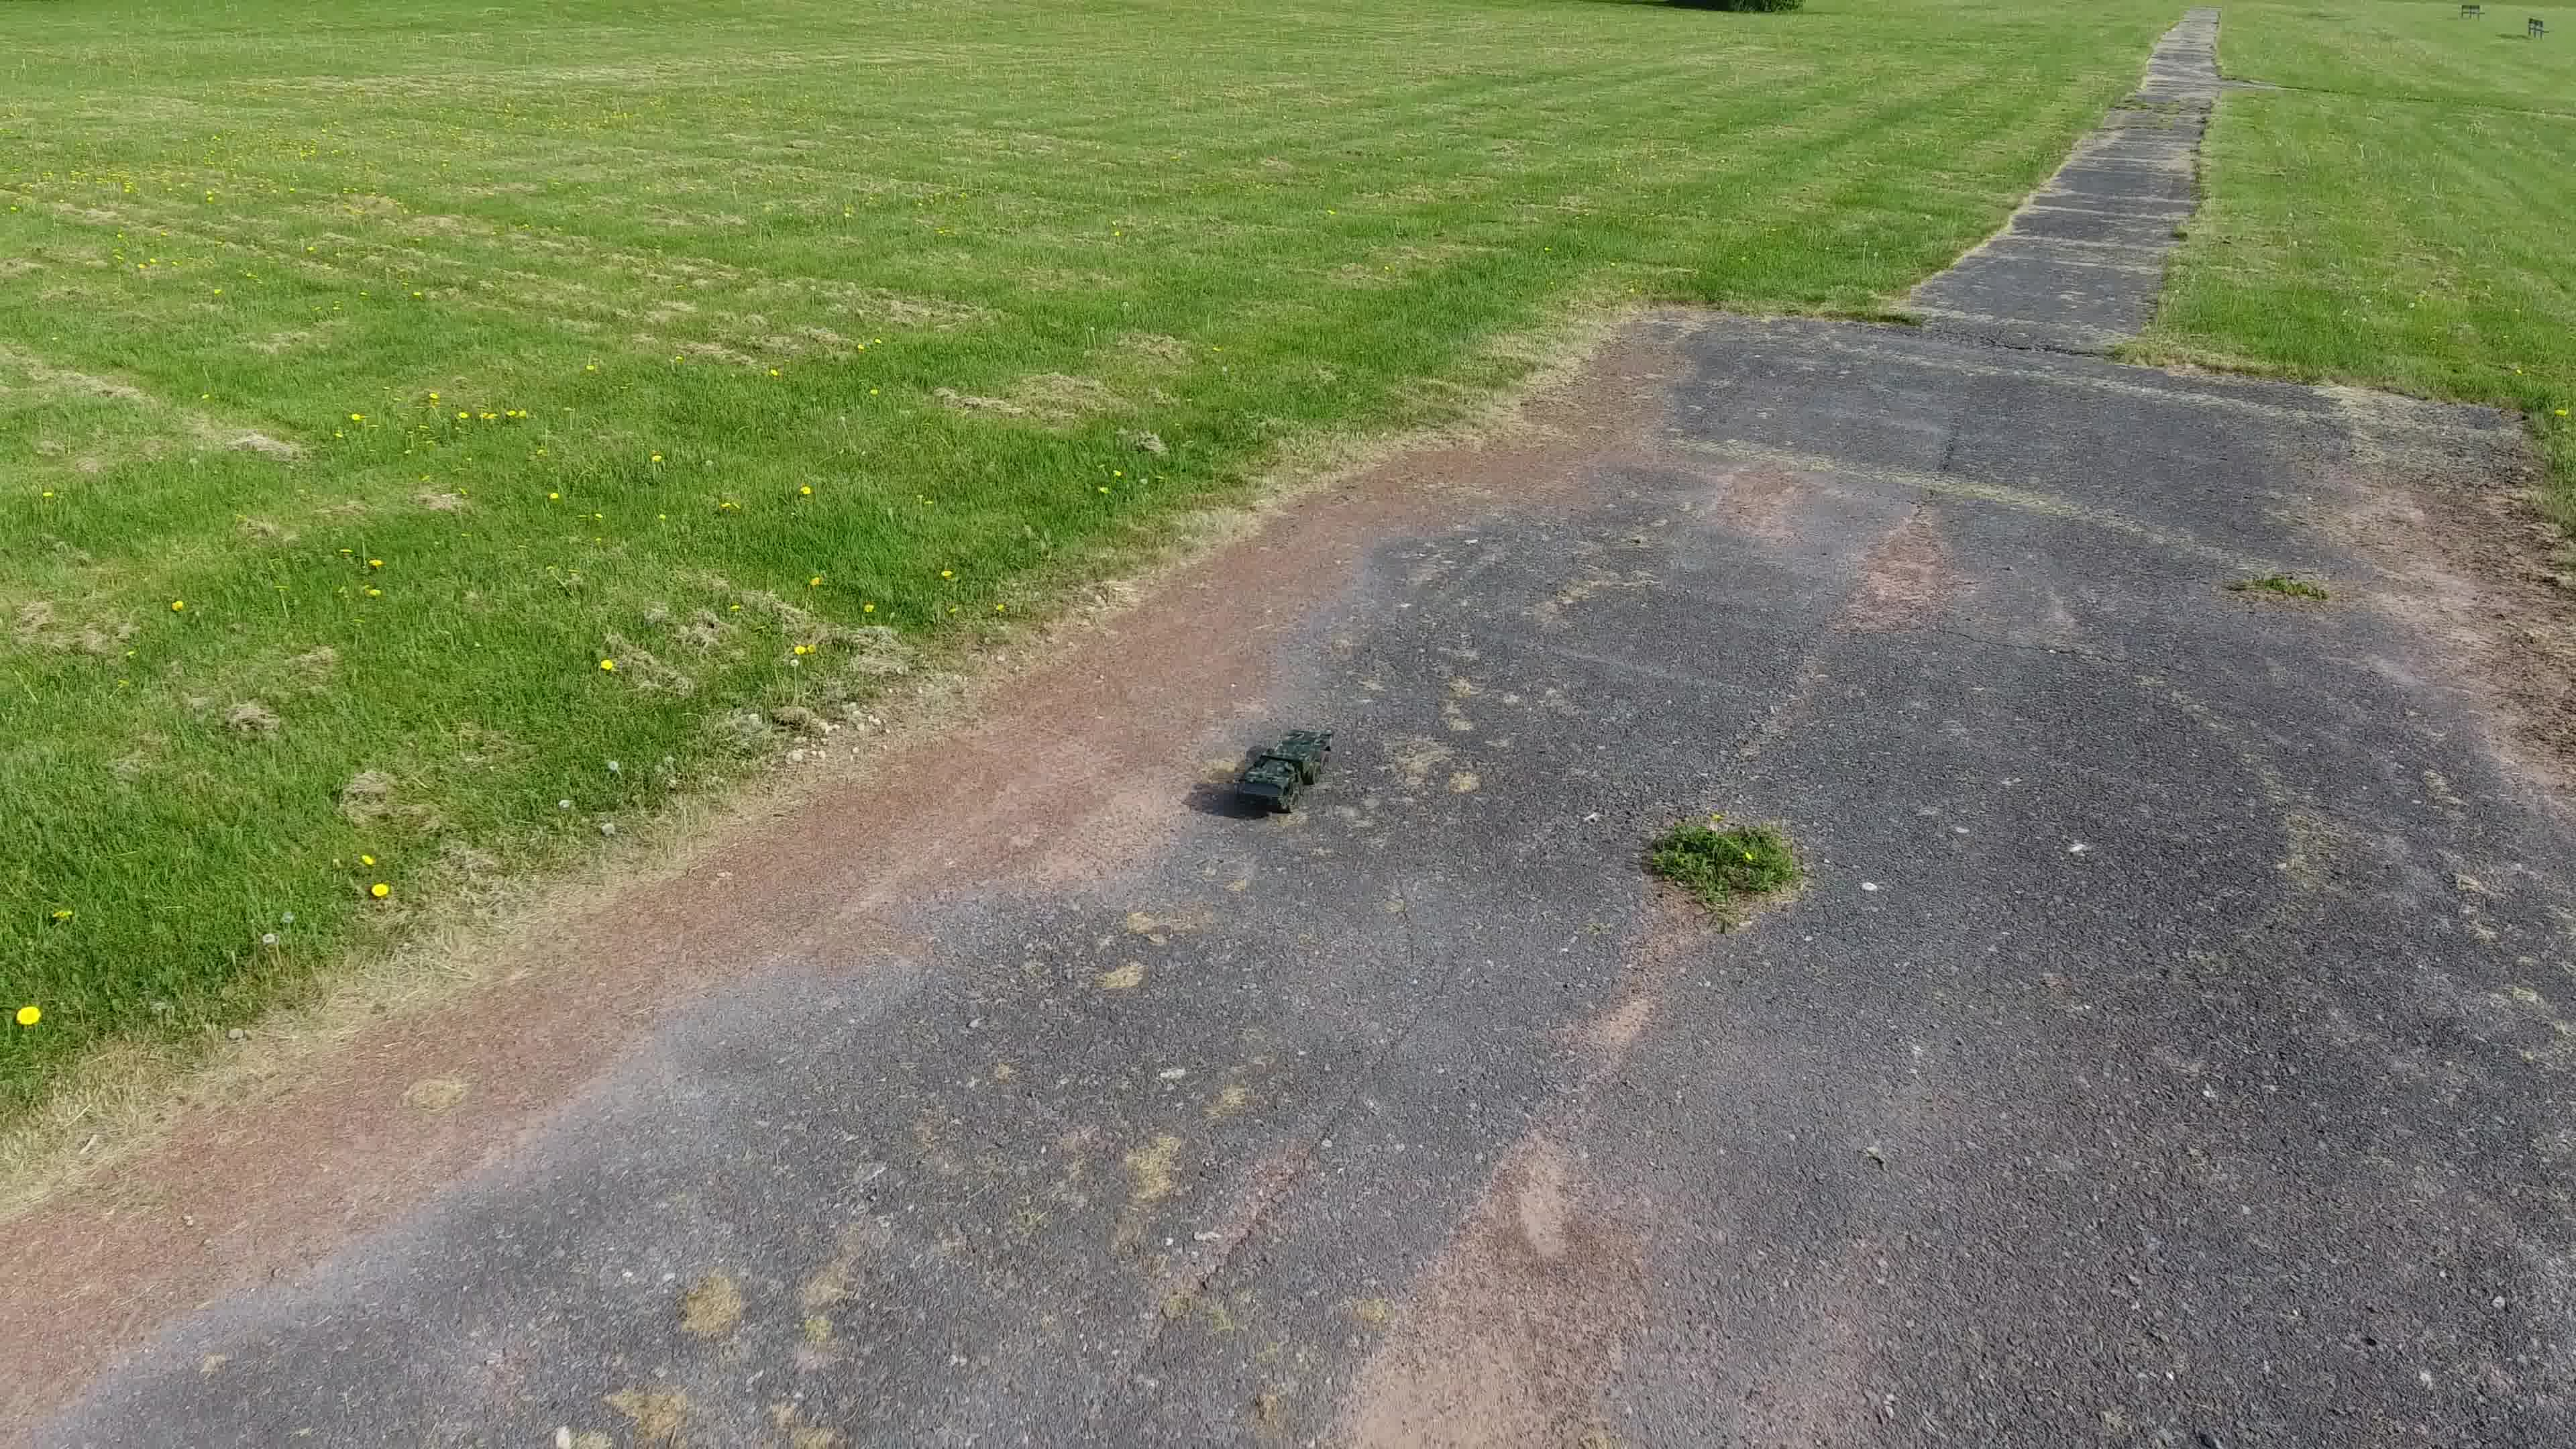transporter9_camo: (1230, 727, 1338, 816)
